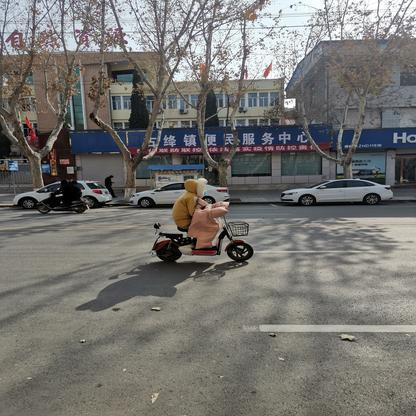target: (149, 170, 259, 270)
